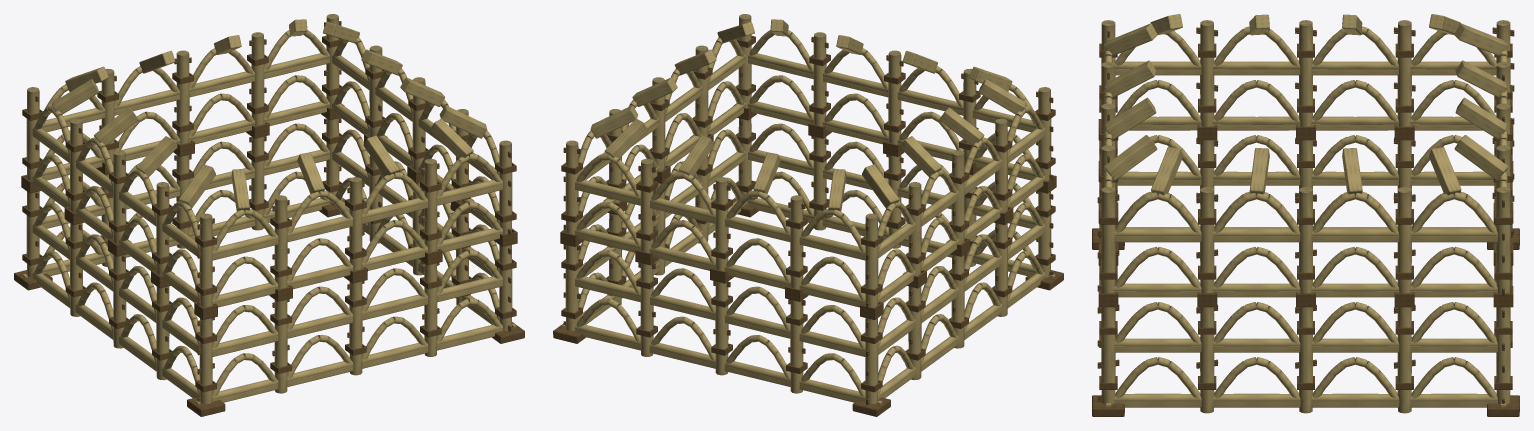
The picture shows the model from 3 angles, left to right: view 1: azimuth 30°, elevation 25°; view 2: azimuth 150°, elevation 25°; view 3: azimuth 270°, elevation 25°; orthographic projection. The views are drawn at different scales.
Visible parts, largest first — view 1: Tier 1 side 0 post 0, Tier 1 side 0 post 2, Tier 1 side 0 post 1, Tier 1 side 2 post 2, Tier 1 side 2 post 1, Tier 1 side 0 post 3, Tier 0 side 0 post 2, Tier 0 side 0 post 1, Tier 0 side 0 post 3, Tier 1 side 1 post 0, Tier 0 side 0 post 0, Tier 1 side 3 post 3 (+32 smaller); view 2: Tier 1 side 3 post 0, Tier 1 side 0 post 3, Tier 1 side 2 post 2, Tier 1 side 0 post 2, Tier 1 side 2 post 3, Tier 1 side 2 post 1, Tier 0 side 2 post 2, Tier 1 side 2 post 0, Tier 0 side 2 post 3, Tier 0 side 2 post 1, Tier 0 side 3 post 0, Tier 1 side 3 post 1 (+32 smaller); view 3: Tier 1 side 1 post 0, Tier 1 side 3 post 3, Tier 1 side 1 post 1, Tier 1 side 3 post 1, Tier 1 side 1 post 3, Tier 1 side 2 post 0, Tier 0 side 1 post 1, Tier 0 side 1 post 3, Tier 1 side 1 post 2, Tier 1 side 3 post 2, Tier 0 side 1 post 2, Tier 0 side 1 post 0 (+79 smaller).
Boxes of the visible parts, box(x1,y1,x2,y2) form: Tier 1 side 0 post 0: box(199, 213, 212, 307); Tier 1 side 0 post 2: box(349, 177, 362, 271); Tier 1 side 0 post 1: box(274, 195, 287, 289); Tier 1 side 2 post 2: box(176, 50, 189, 144); Tier 1 side 2 post 1: box(251, 32, 264, 126); Tier 1 side 0 post 3: box(424, 159, 437, 252); Tier 0 side 0 post 2: box(349, 281, 362, 375); Tier 0 side 0 post 1: box(274, 300, 287, 393); Tier 0 side 0 post 3: box(424, 263, 437, 356); Tier 1 side 1 post 0: box(499, 140, 512, 234); Tier 0 side 0 post 0: box(199, 318, 212, 404); Tier 1 side 3 post 3: box(156, 182, 169, 275); Tier 1 side 3 post 0: box(865, 213, 878, 307); Tier 1 side 0 post 3: box(813, 32, 826, 126); Tier 1 side 2 post 2: box(715, 177, 728, 271); Tier 1 side 0 post 2: box(888, 50, 901, 144); Tier 1 side 2 post 3: box(790, 195, 803, 289); Tier 1 side 2 post 1: box(640, 159, 653, 252); Tier 0 side 2 post 2: box(715, 281, 728, 375); Tier 1 side 2 post 0: box(565, 140, 578, 234); Tier 0 side 2 post 3: box(790, 300, 803, 393); Tier 0 side 2 post 1: box(640, 263, 653, 356); Tier 0 side 3 post 0: box(865, 318, 878, 404); Tier 1 side 3 post 1: box(908, 182, 921, 275); Tier 1 side 1 post 0: box(1101, 187, 1115, 293); Tier 1 side 3 post 3: box(1200, 20, 1214, 126); Tier 1 side 1 post 1: box(1200, 187, 1214, 293); Tier 1 side 3 post 1: box(1397, 20, 1411, 126); Tier 1 side 1 post 3: box(1397, 187, 1411, 293); Tier 1 side 2 post 0: box(1496, 187, 1510, 293); Tier 0 side 1 post 1: box(1200, 307, 1214, 413); Tier 0 side 1 post 3: box(1397, 307, 1411, 413); Tier 1 side 1 post 2: box(1299, 187, 1312, 293); Tier 1 side 3 post 2: box(1299, 20, 1312, 126); Tier 0 side 1 post 2: box(1299, 307, 1312, 413); Tier 0 side 1 post 0: box(1101, 307, 1115, 404).
Size of the model in its own units: 1.95 by 1.23 by 1.95.
2 materials, 2 textured.
